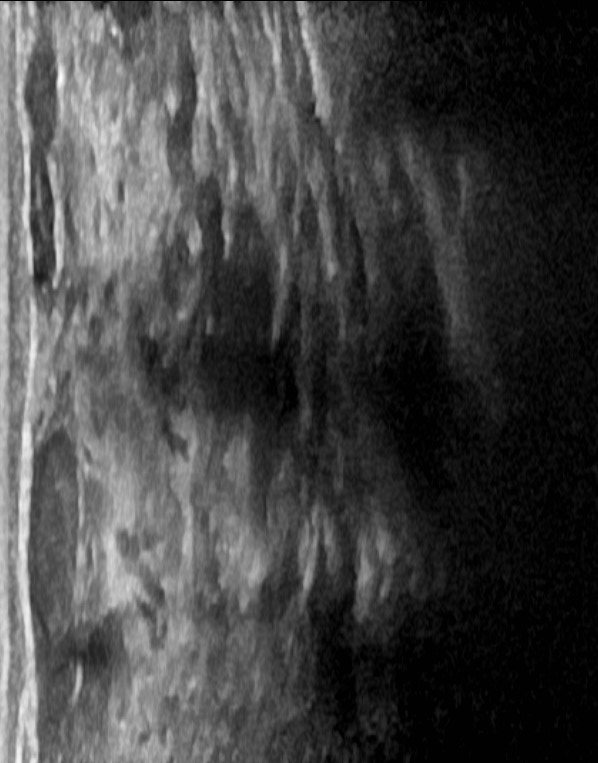Normal: (19, 6, 568, 760)
